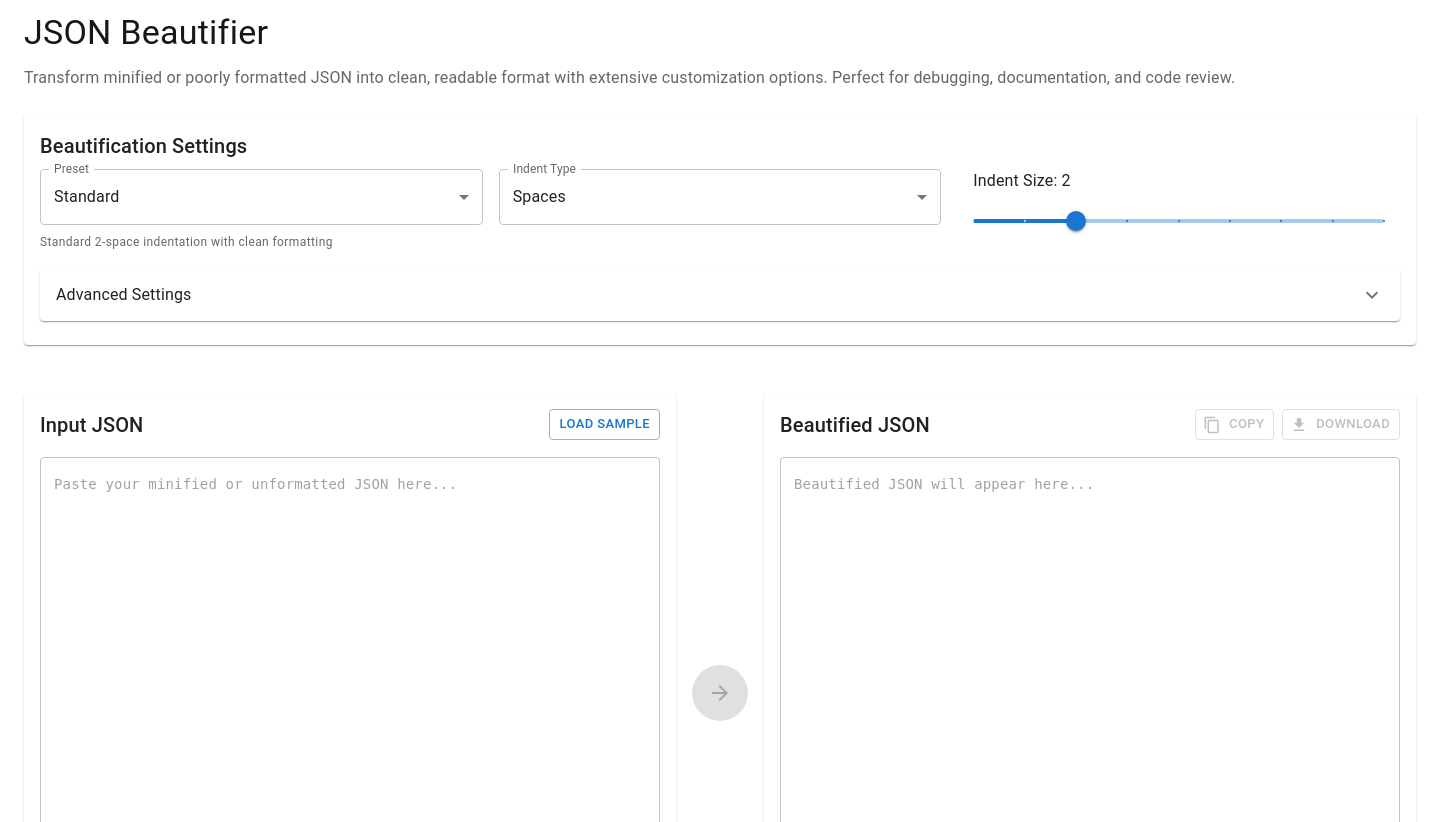
Test: JsonBeautifierTool › should expand advanced settings when custom preset is selected
Click the dropdown labelled "Standard" at (87, 197), box [54,187,120,206]
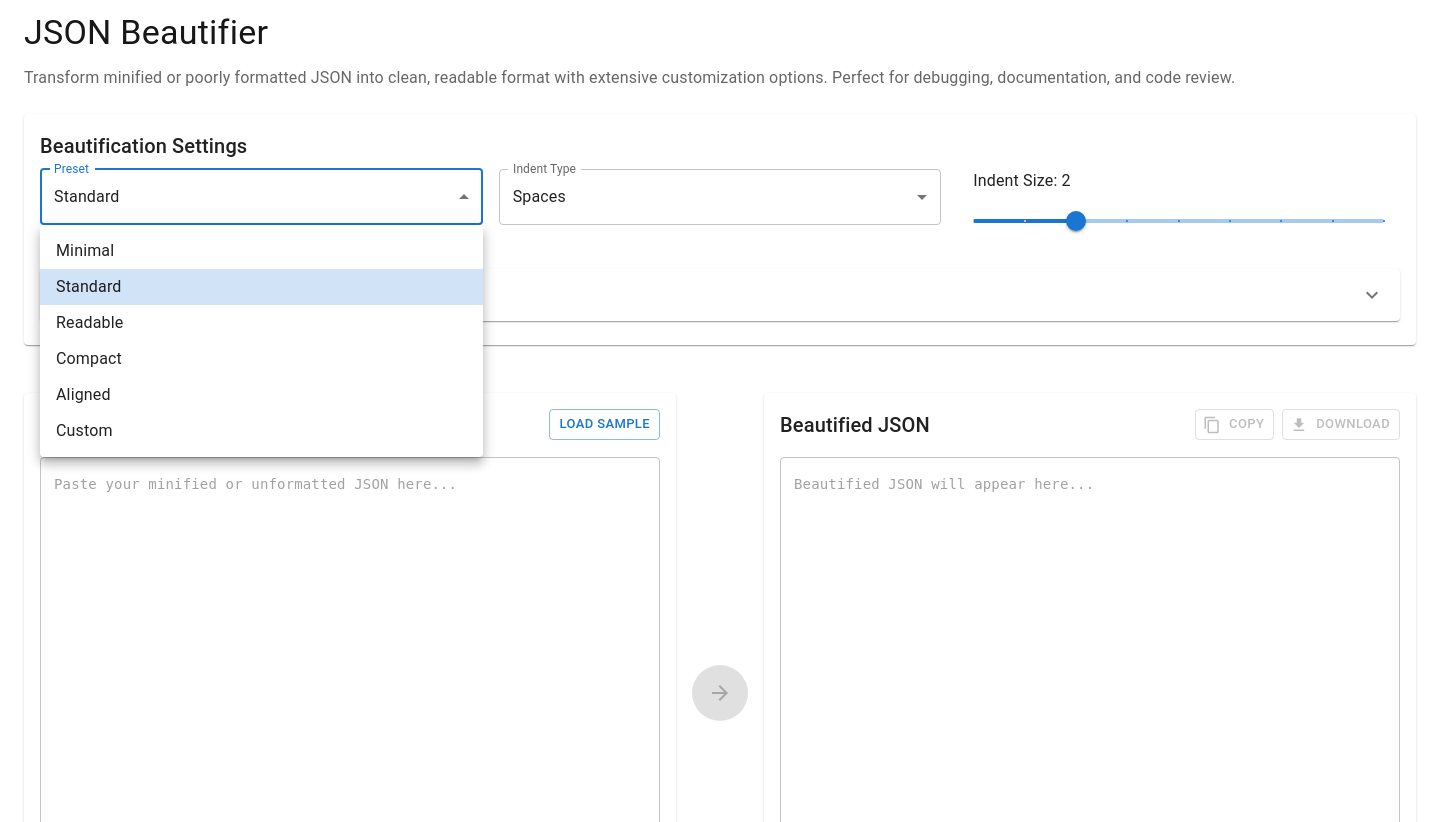
Click the option "Custom" at (84, 430), box [56,421,113,440]
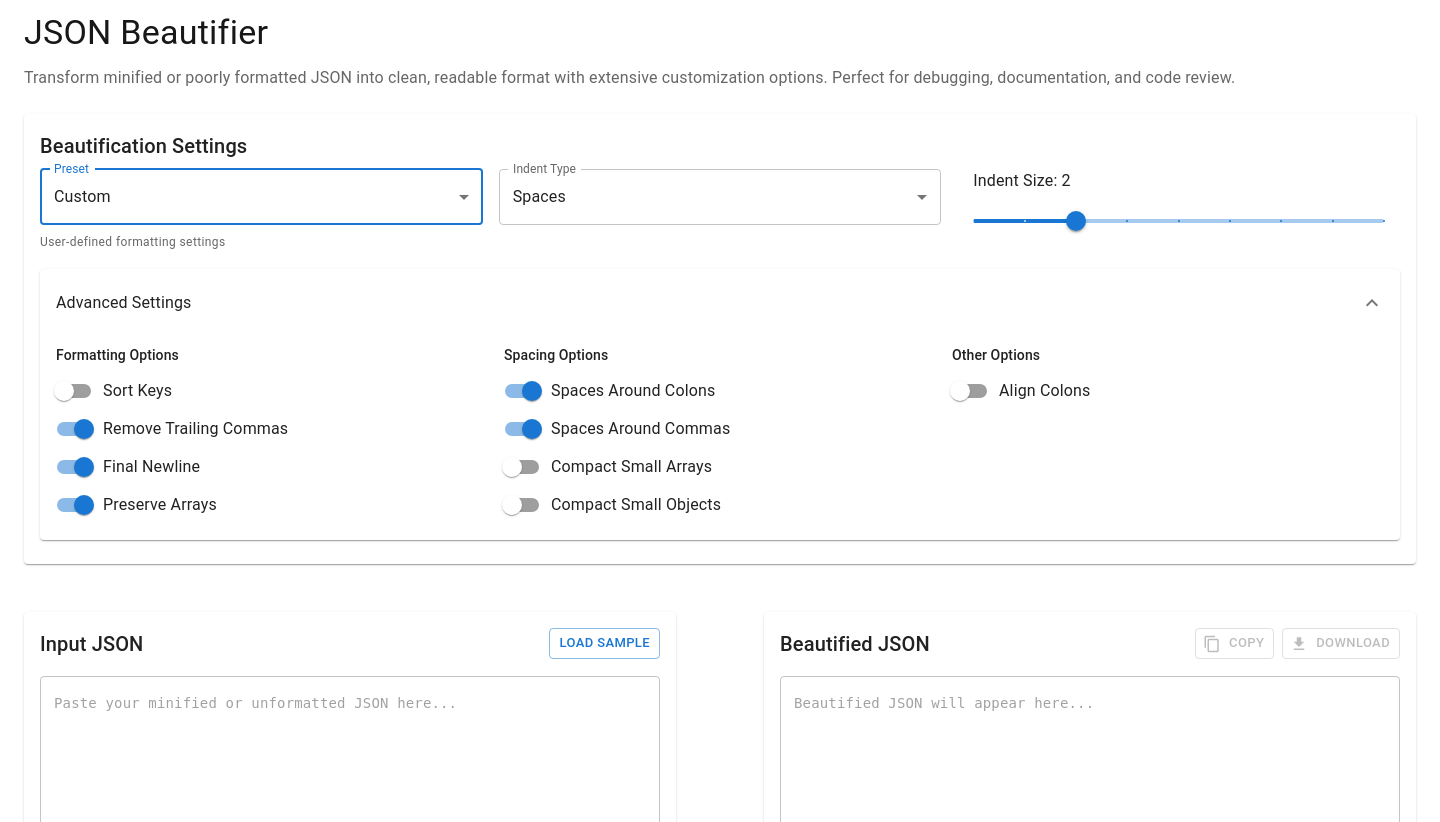
Result: the button "Advanced Settings" is expanded at [40,269,1400,337]
Result: the dropdown labelled "Custom" is shown at [54,187,111,206]
